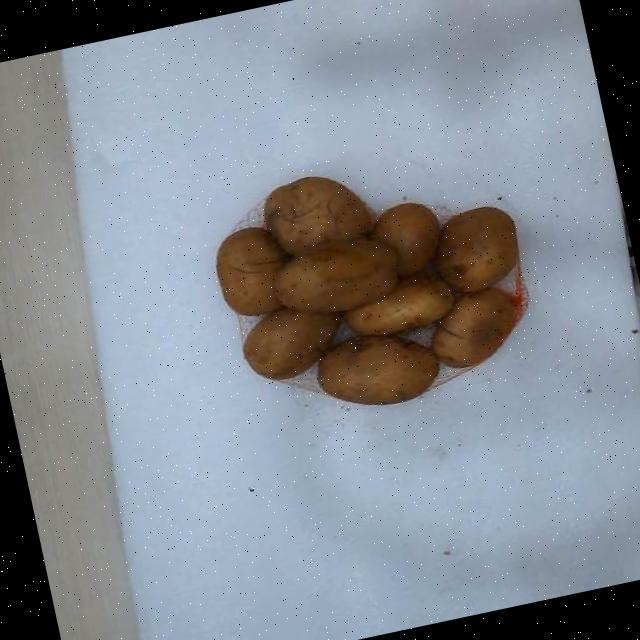potato: (275, 238, 396, 311), (317, 334, 438, 404), (264, 175, 369, 253), (242, 307, 340, 379), (435, 205, 517, 291), (431, 288, 515, 367), (343, 274, 453, 334), (216, 226, 287, 315), (369, 201, 439, 274)
